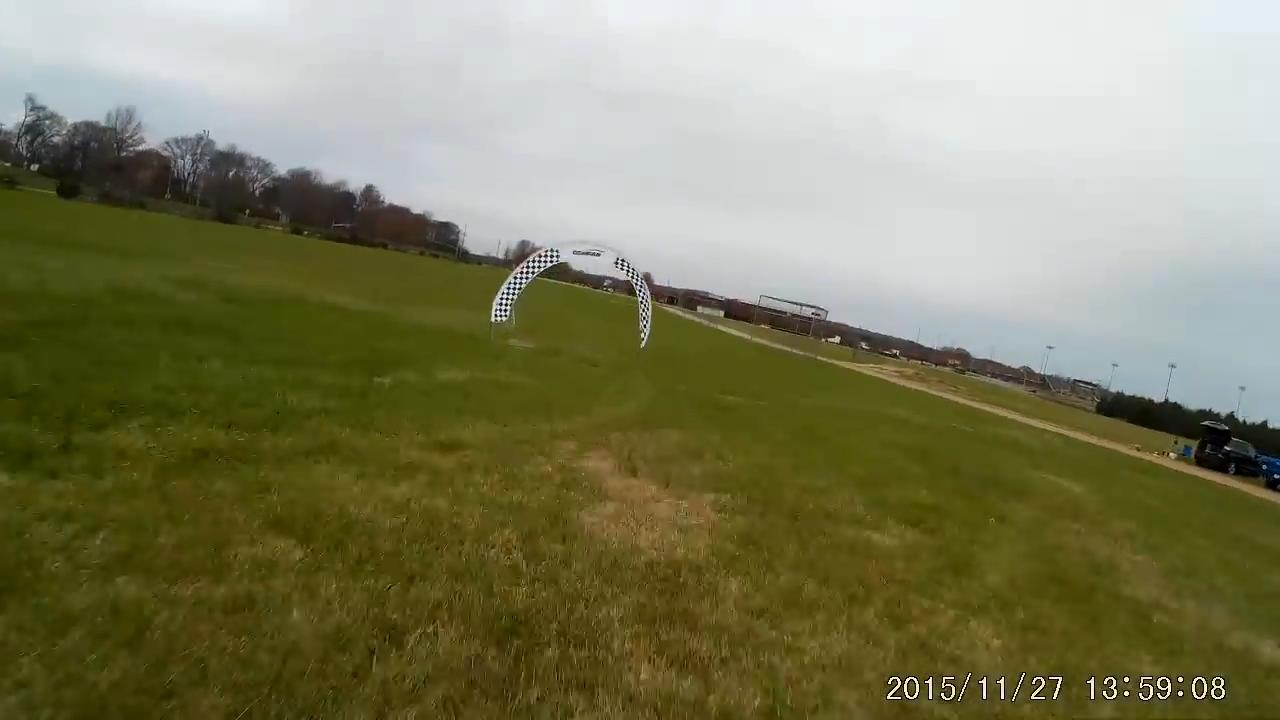gate: (487, 238, 655, 349)
